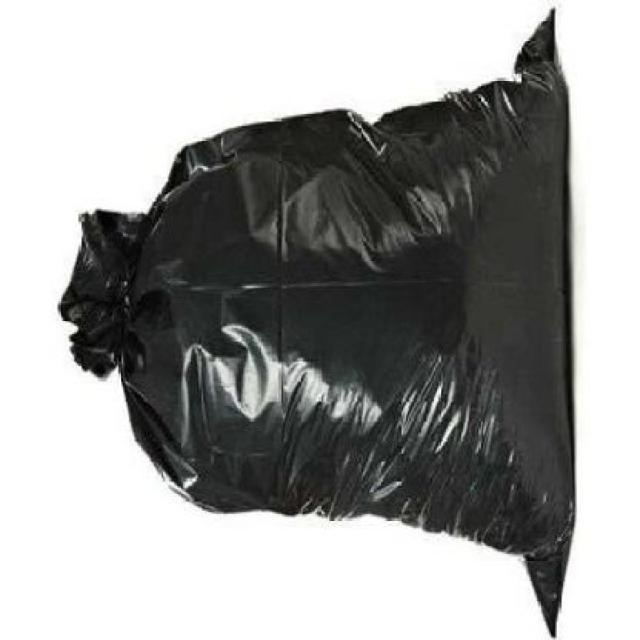Garbage_Bag: (46, 0, 580, 638)
